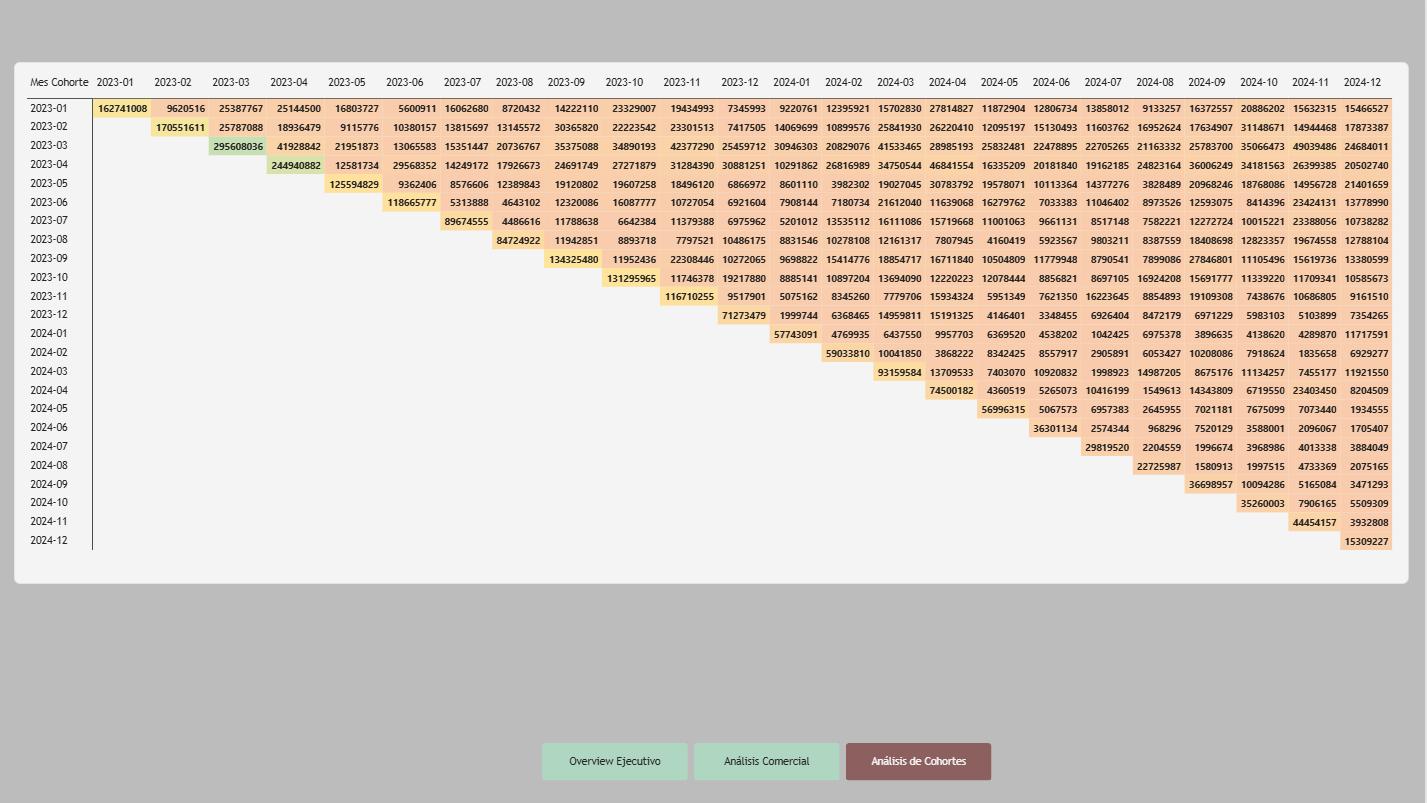

Layout of this report page (visuals, bound fields, positions):
{"tool":"powerbi","page":{"name":"Análisis de Cohortes","canvas":[1900,1080],"ordinal":2},"visuals":[{"type":"pivotTable","fields":{"Columns":["TB_Hecho_Ventas_Propiedades.Mes Venta"],"Rows":["TB_Hecho_Ventas_Propiedades.Mes Cohorte"],"Values":["TB_Hecho_Ventas_Propiedades.Ingreso Total"]},"box":[23.3,88.9,1854.9,693.5],"z":0},{"type":"pageNavigator","box":[725,994.5,600,50],"z":1}]}

Visuals, with their boxes in screenshot pixels (x1, y1, x2, y2), scaled from the page's 1900x1080 canvas onto the 1427x803 screenshot:
pivotTable - TB_Hecho_Ventas_Propiedades.Mes Venta x TB_Hecho_Ventas_Propiedades.Mes Cohorte: pyautogui.locateOnScreen(17, 66, 1411, 582)
pageNavigator: pyautogui.locateOnScreen(545, 739, 995, 777)
